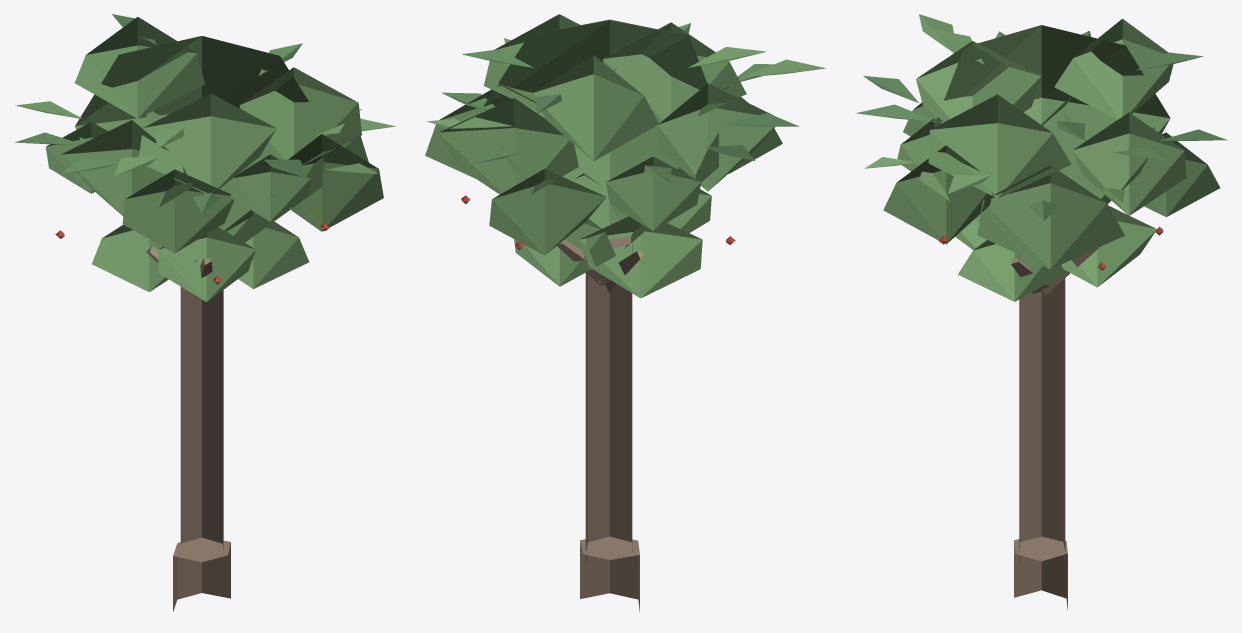
File: shu.mumian@fruiting__summer.glb
3 renders of one model, left to right at view 1: azimuth 30°, elevation 25°; view 2: azimuth 150°, elevation 25°; view 3: azimuth 270°, elevation 25°, orthographic. The views are drawn at different scales.
Parts seen in each view (by area): view 1: shu.mumian@fruiting__summer; view 2: shu.mumian@fruiting__summer; view 3: shu.mumian@fruiting__summer.
Boxes of the visible parts, x1,y1,x2,y2 form: shu.mumian@fruiting__summer: [14, 14, 396, 611]; shu.mumian@fruiting__summer: [425, 14, 825, 611]; shu.mumian@fruiting__summer: [856, 14, 1227, 610].
Bounding box in the file's own units: 18.3 × 30.34 × 17.84.
